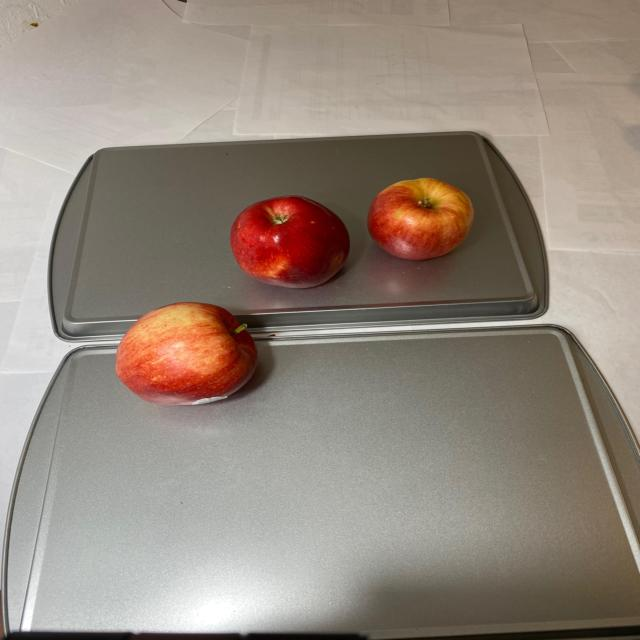apple: (115, 175, 472, 408)
